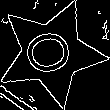O_E: (22, 27, 81, 79)
